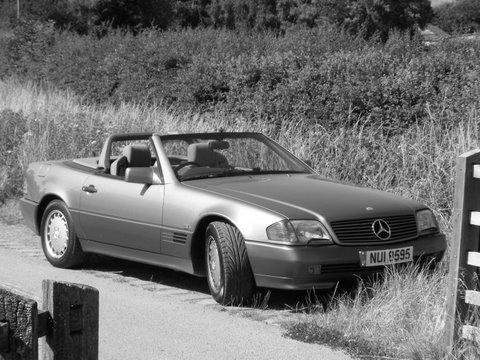car: (10, 117, 456, 330)
